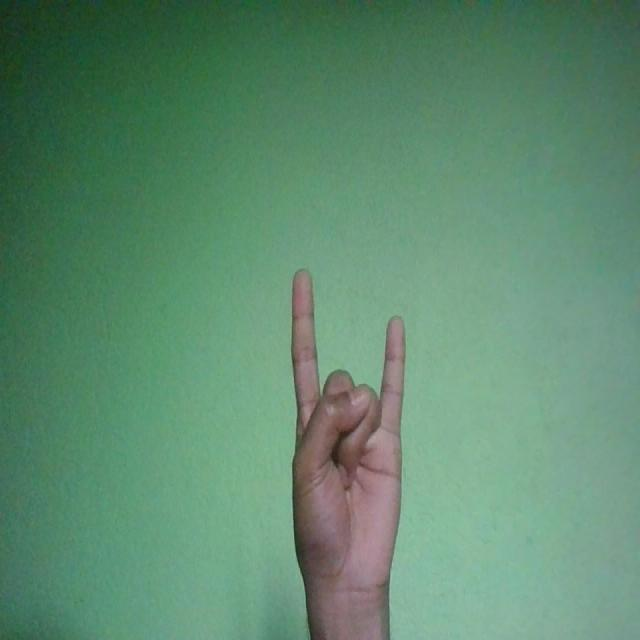open Plam: (291, 268, 407, 603)
